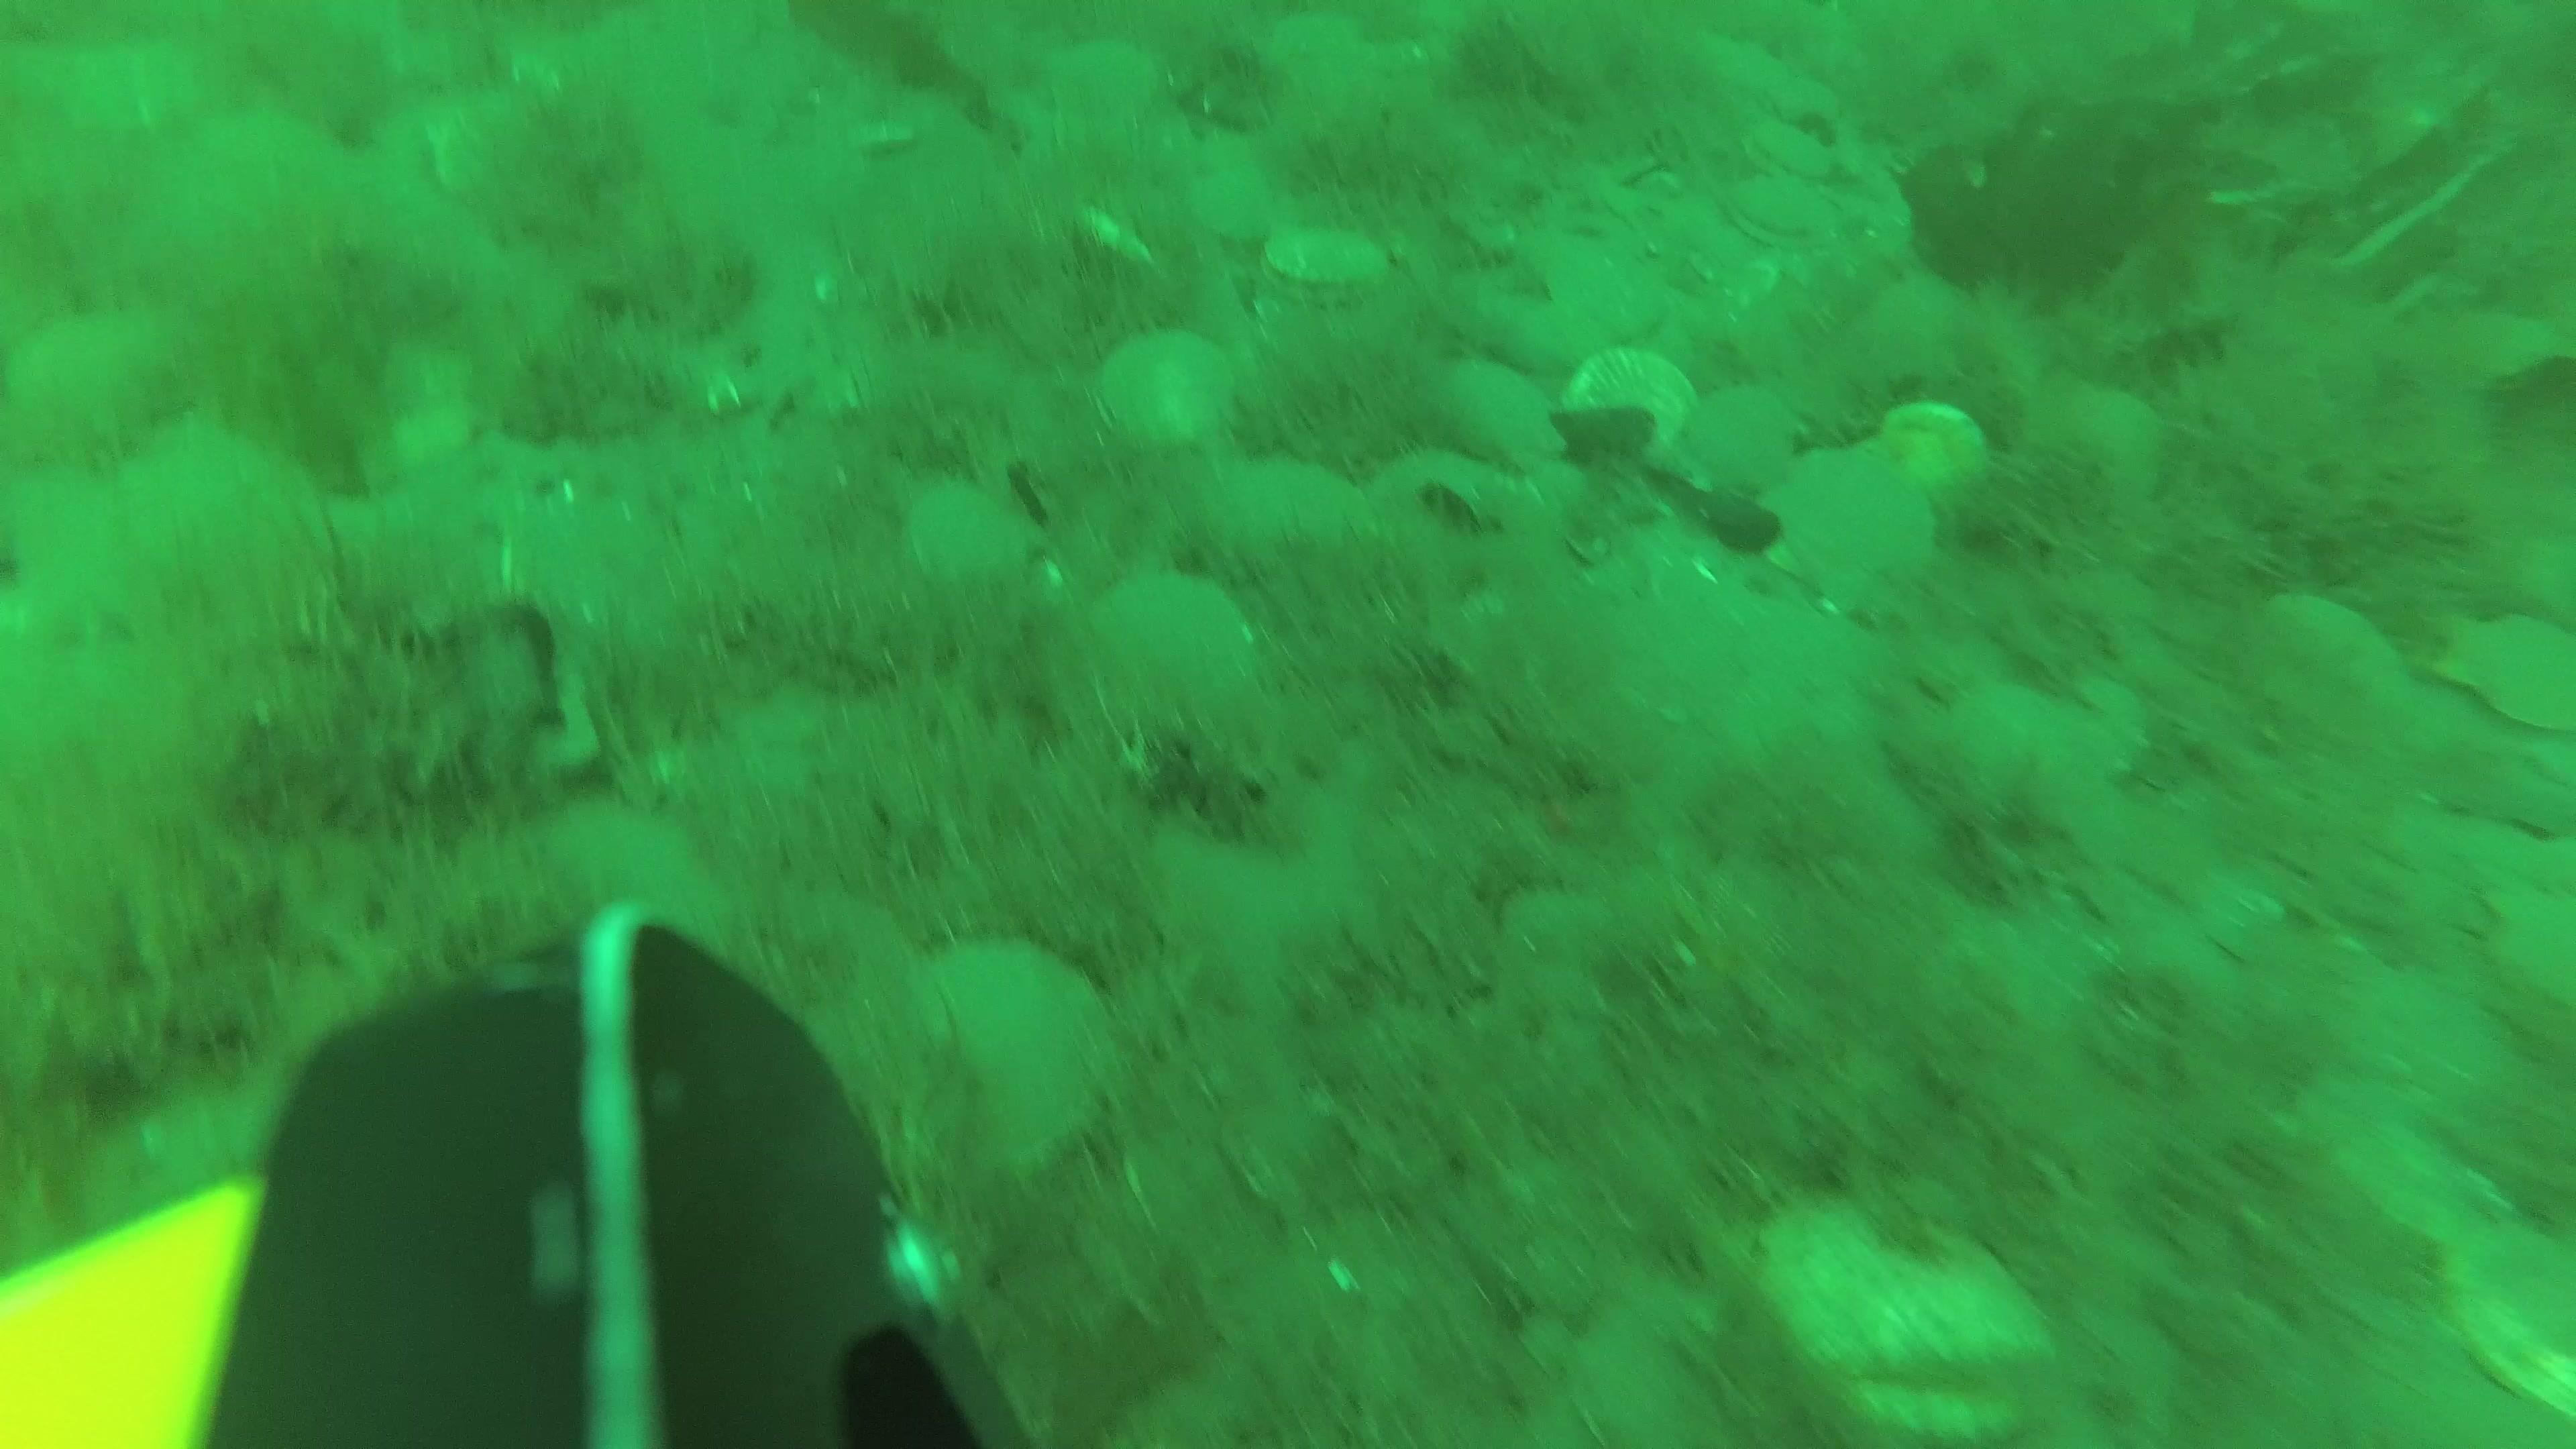scallop: (1757, 1200, 2058, 1449), (899, 941, 1115, 1201), (104, 430, 345, 640), (2250, 591, 2410, 757), (1093, 575, 1240, 752), (1773, 455, 1928, 614), (2332, 1113, 2489, 1254), (1371, 460, 1527, 589), (2449, 593, 2574, 750), (1941, 688, 2093, 817), (1212, 469, 1364, 591), (1435, 350, 1569, 481), (1102, 329, 1231, 448), (1571, 349, 1698, 467), (2038, 379, 2164, 497), (2475, 883, 2576, 1030), (916, 478, 1044, 593), (1690, 400, 1810, 506), (1049, 41, 1169, 142), (1260, 216, 1382, 310), (1732, 172, 1844, 264), (1189, 165, 1279, 249), (1752, 111, 1840, 191)
